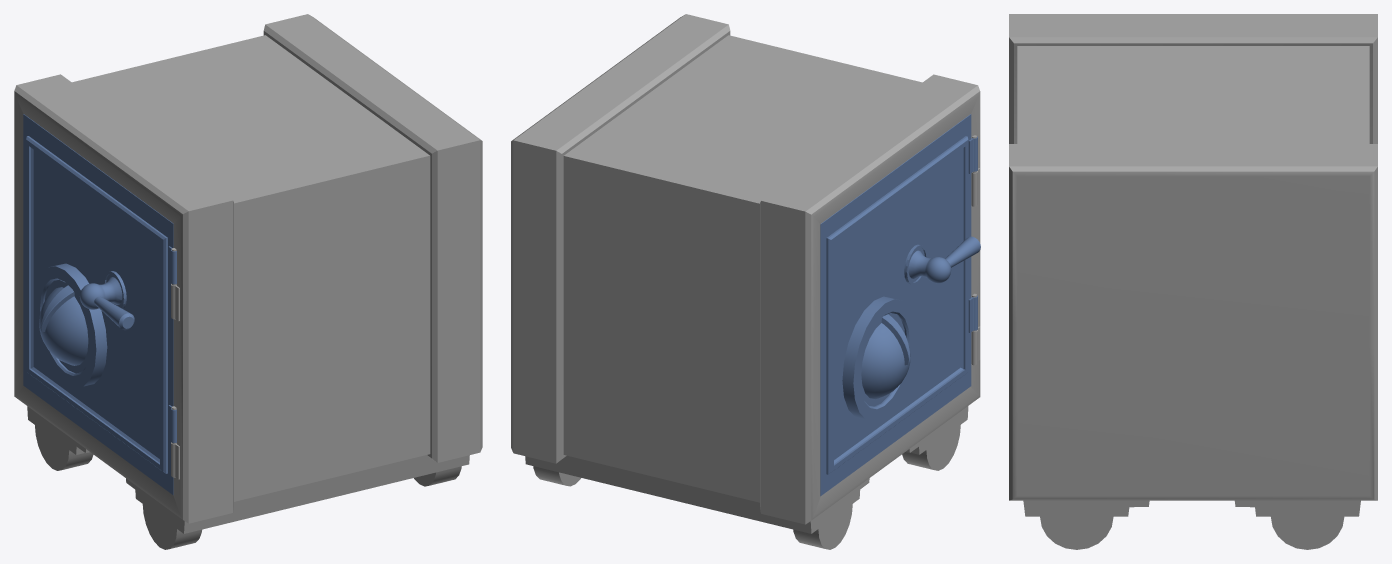
File: small_safe_mesh.fbx
3 views of the same model, side by side, from view 1: azimuth 30°, elevation 25°; view 2: azimuth 150°, elevation 25°; view 3: azimuth 270°, elevation 25° (orthographic). The views are drawn at different scales.
Visible parts, largest first — view 1: polySurface178, polySurface179, polySurface184; view 2: polySurface178, polySurface179, polySurface184; view 3: polySurface178.
Part boxes in pixels (x1,y1,x2,y2): polySurface178: [14, 14, 482, 549]; polySurface179: [23, 114, 176, 495]; polySurface184: [33, 263, 107, 388]; polySurface178: [511, 14, 980, 549]; polySurface179: [820, 114, 980, 496]; polySurface184: [842, 296, 915, 421]; polySurface178: [1009, 14, 1377, 549].
Size of the model in its own units: 22.34 by 22.84 by 19.81.
